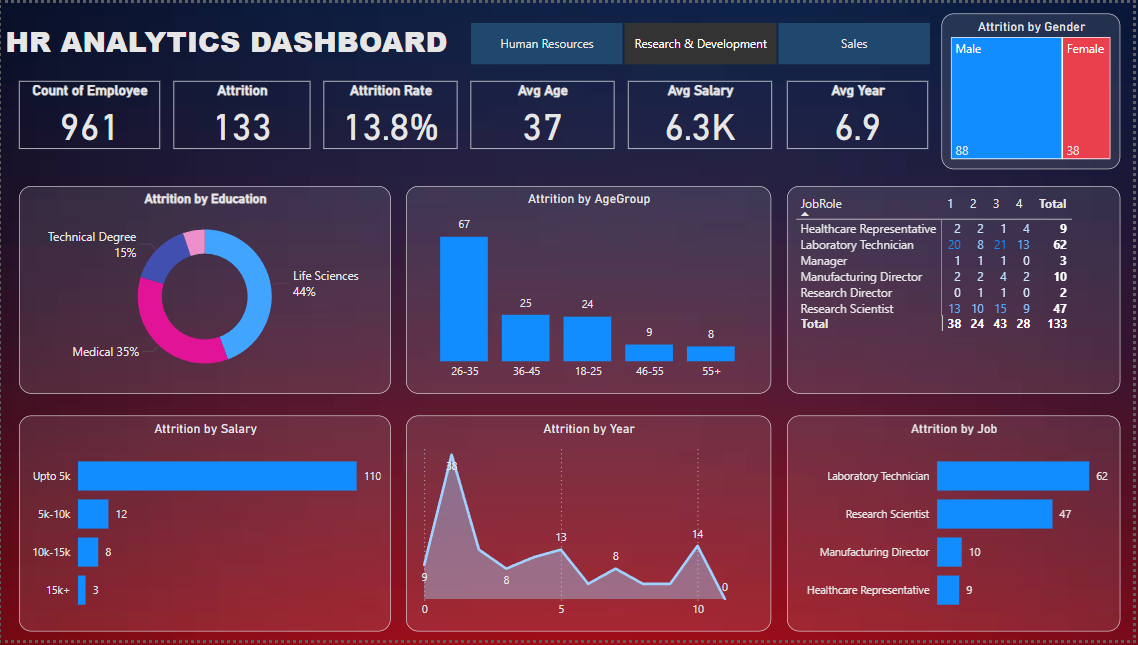

Layout of this report page (visuals, bound fields, positions):
{"tool":"powerbi","page":{"name":"Page 1","canvas":[1280,720],"ordinal":0},"visuals":[{"type":"card","title":"Count of Employee","fields":{"Values":["CountNonNull(HR_Analytics.EmpID)"]},"box":[20.3,87.5,159.4,76.6],"z":0},{"type":"card","title":"Attrition","fields":{"Values":["Sum(HR_Analytics.AttritionCount)"]},"box":[195.3,87.5,154.7,76.6],"z":1},{"type":"card","title":"Attrition Rate","fields":{"Values":["HR_Analytics.ATTRITIONRATE"]},"box":[364.1,87.5,151.6,76.6],"z":2},{"type":"card","title":"Avg Age","fields":{"Values":["Avg(HR_Analytics.Age)"]},"box":[529.7,87.5,162.5,76.6],"z":3},{"type":"card","title":"Avg Salary","fields":{"Values":["Avg(HR_Analytics.MonthlyIncome)"]},"box":[707.8,87.5,162.5,76.6],"z":4},{"type":"card","title":"Avg Year","fields":{"Values":["Avg(HR_Analytics.YearsAtCompany)"]},"box":[887.5,87.5,159.4,76.6],"z":5},{"type":"donutChart","title":"Attrition by Education","fields":{"Category":["HR_Analytics.EducationField"],"Y":["Sum(HR_Analytics.AttritionCount)"]},"box":[20.3,206.2,420.3,234.4],"z":6},{"type":"columnChart","title":"Attrition by AgeGroup","fields":{"Category":["HR_Analytics.AgeGroup"],"Y":["Sum(HR_Analytics.AttritionCount)"]},"box":[457.8,206.2,412.5,234.4],"z":7},{"type":"pivotTable","fields":{"Rows":["HR_Analytics.JobRole"],"Columns":["HR_Analytics.JobSatisfaction"],"Values":["Sum(HR_Analytics.AttritionCount)"]},"box":[887.5,206.2,376.6,234.4],"z":8},{"type":"barChart","title":"Attrition by Salary","fields":{"Category":["HR_Analytics.SalarySlab"],"Y":["Sum(HR_Analytics.AttritionCount)"]},"box":[20.3,465.6,420.3,243.8],"z":9},{"type":"barChart","title":"Attrition by Job","fields":{"Y":["Sum(HR_Analytics.AttritionCount)"],"Category":["HR_Analytics.JobRole"]},"box":[887.5,465.6,376.6,243.8],"z":10},{"type":"areaChart","title":"Attrition by Year","fields":{"Category":["HR_Analytics.YearsAtCompany"],"Y":["Sum(HR_Analytics.AttritionCount)"]},"box":[457.8,465.6,412.5,243.8],"z":11},{"type":"treemap","title":"Attrition by Gender","fields":{"Group":["HR_Analytics.Gender"],"Values":["Sum(HR_Analytics.AttritionCount)"]},"box":[1062.1,11.3,202.2,175.7],"z":12},{"type":"slicer","fields":{"Values":["HR_Analytics.Department"]},"box":[504.7,15.6,568.8,60.9],"z":13},{"type":"textbox","box":[0,15.6,529.7,71.9],"z":14}]}

Visuals, with their boxes in screenshot pixels (x1, y1, x2, y2), scaled from the page's 1280x720 canvas onto the 1138x645 screenshot:
"Count of Employee" card: (18, 78, 160, 147)
"Attrition" card: (174, 78, 311, 147)
"Attrition Rate" card: (324, 78, 458, 147)
"Avg Age" card: (471, 78, 615, 147)
"Avg Salary" card: (629, 78, 774, 147)
"Avg Year" card: (789, 78, 931, 147)
"Attrition by Education" donutChart: (18, 185, 392, 395)
"Attrition by AgeGroup" columnChart: (407, 185, 774, 395)
pivotTable - HR_Analytics.JobRole x HR_Analytics.JobSatisfaction: (789, 185, 1124, 395)
"Attrition by Salary" barChart: (18, 417, 392, 636)
"Attrition by Job" barChart: (789, 417, 1124, 636)
"Attrition by Year" areaChart: (407, 417, 774, 636)
"Attrition by Gender" treemap: (944, 10, 1124, 168)
slicer - HR_Analytics.Department: (449, 14, 954, 69)
textbox: (0, 14, 471, 78)
